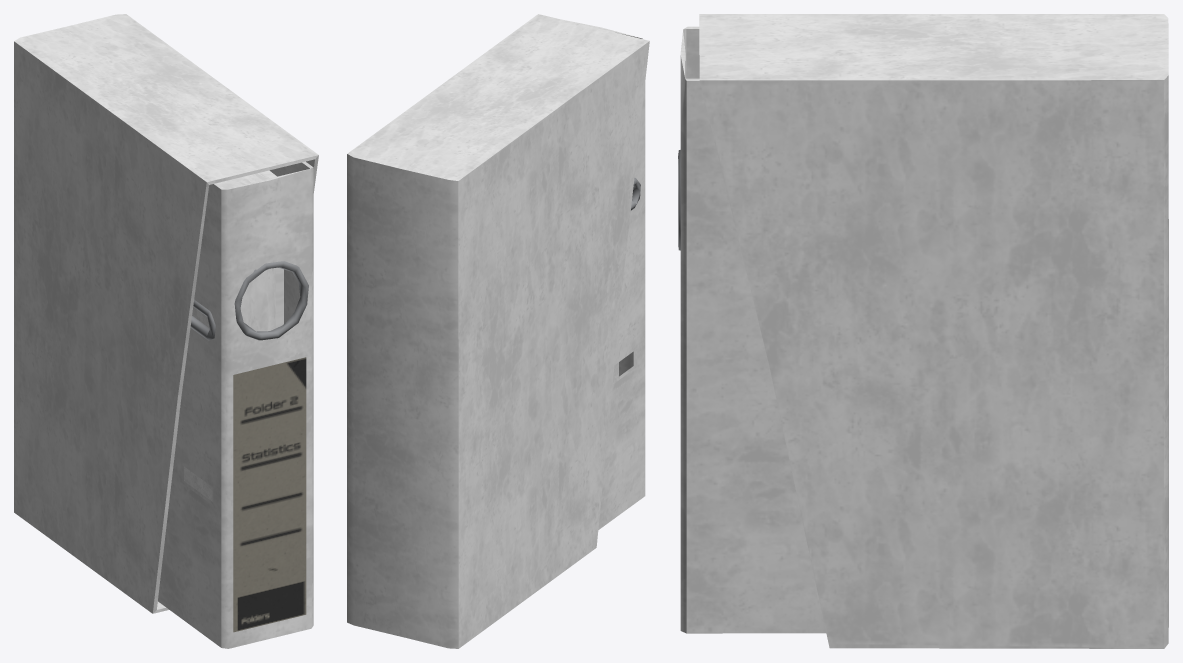
Rendered from SM_Folder1.fbx.
The picture shows the model from 3 angles, left to right: view 1: azimuth 30°, elevation 25°; view 2: azimuth 150°, elevation 25°; view 3: azimuth 270°, elevation 25°; orthographic projection. The views are drawn at different scales.
Parts seen in each view (by area): view 1: SM_Folder1_LOD0; view 2: SM_Folder1_LOD0; view 3: SM_Folder1_LOD0.
Part boxes in pixels (x1,y1,x2,y2): SM_Folder1_LOD0: [14, 14, 318, 648]; SM_Folder1_LOD0: [347, 14, 649, 648]; SM_Folder1_LOD0: [678, 14, 1168, 648].
Size of the model in its own units: 12.35 by 38.72 by 49.58.
1 material, 1 textured.
